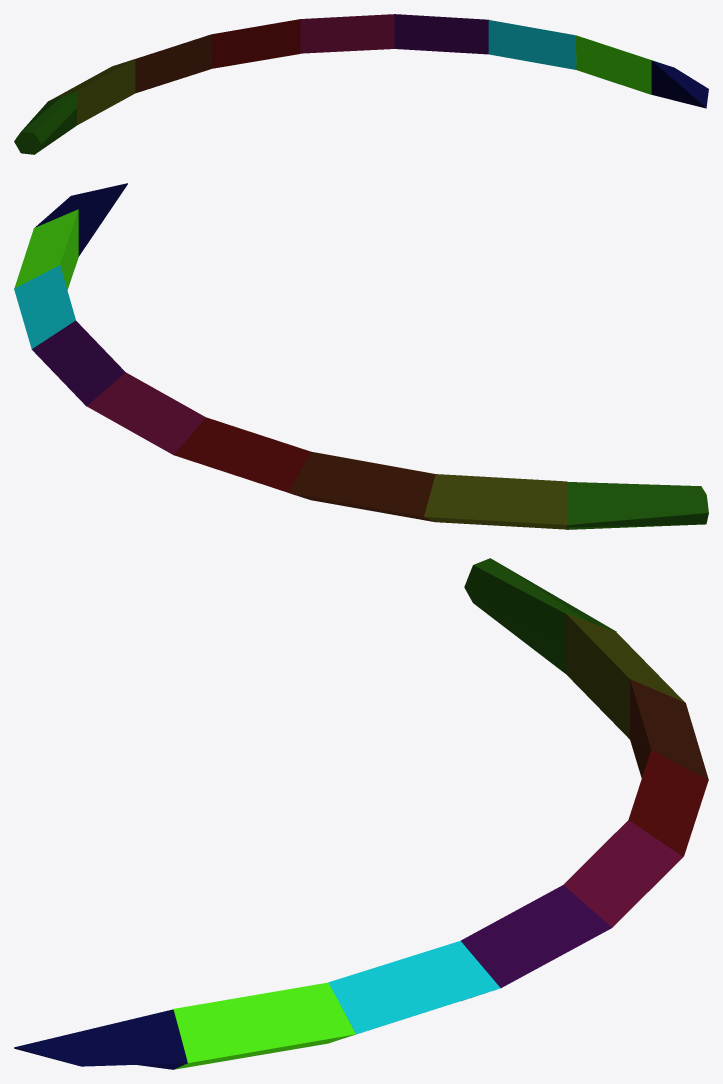
File: NeedleCollision.OBJ
The picture shows the model from 3 angles, top to bottom: view 1: azimuth 30°, elevation 25°; view 2: azimuth 150°, elevation 25°; view 3: azimuth 270°, elevation 25°; orthographic projection. The views are drawn at different scales.
Visible parts, largest first — view 1: /ambf/env/NeedleCollision_Cylinder.006; view 2: /ambf/env/NeedleCollision_Cylinder.006; view 3: /ambf/env/NeedleCollision_Cylinder.006.
Part boxes in pixels (x1,y1,x2,y2): /ambf/env/NeedleCollision_Cylinder.006: (14, 14, 708, 154); /ambf/env/NeedleCollision_Cylinder.006: (14, 183, 708, 529); /ambf/env/NeedleCollision_Cylinder.006: (14, 558, 708, 1069).
Size of the model in its own units: 0.1694 by 0.00982 by 0.1009.
